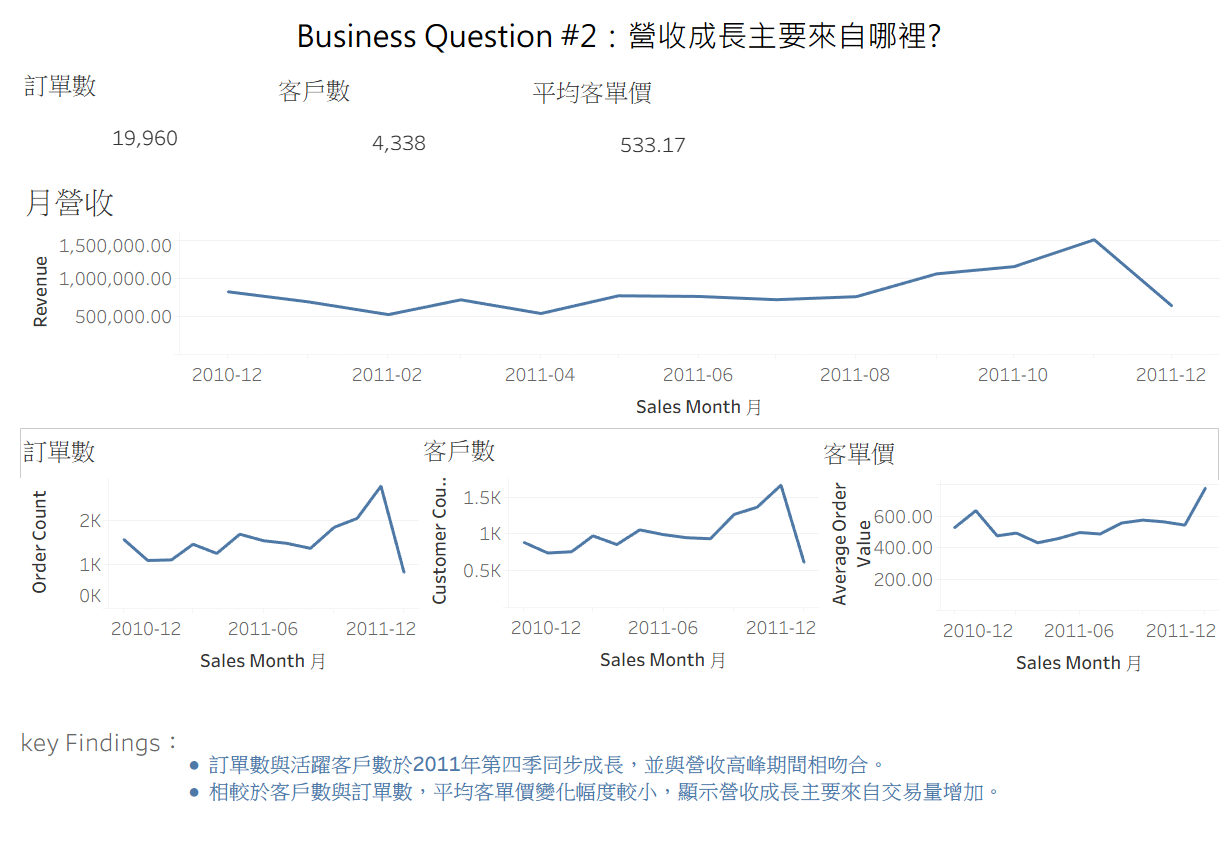

Layout of this report page (visuals, bound fields, positions):
{"tool":"tableau","page":{"name":"營收成長分析儀表板","canvas":[1200,850],"ordinal":1},"visuals":[{"type":"text","box":[0,6,1200,50]},{"type":"worksheet","title":"Total Orders","mark":"Automatic","box":[1,54,250,100]},{"type":"worksheet","title":"Total Customers","mark":"Automatic","box":[255,59,250,100]},{"type":"worksheet","title":"Average Order Value","mark":"Automatic","box":[509,61,250,100]},{"type":"worksheet","title":"Monthly Revenue","mark":"Automatic","rows":["Calculation_0257887555051522"],"cols":["Calculation_0257887572770822"],"box":[1,166,1200,250]},{"type":"worksheet","title":"Monthly Active Customers","mark":"Automatic","rows":["Calculation_0257887555686404"],"cols":["Calculation_0257887572770822"],"box":[400,419,400,250]},{"type":"worksheet","title":"Monthly Order","mark":"Automatic","rows":["Calculation_0257887555424259"],"cols":["Calculation_0257887572770822"],"box":[0,420,400,250]},{"type":"worksheet","title":"Monthly AOV","mark":"Automatic","rows":["Calculation_0257887556005893"],"cols":["Calculation_0257887572770822"],"box":[800,422,400,250]},{"type":"text","box":[165,719,1034,98]}]}

Visuals, with their boxes on the page's 1200x850 design canvas (x1, y1, x2, y2). These are canvas units, not pixel positions in the 1229x841 screenshot, which may show the page scaled, cropped or inside an application window:
text: {"left": 0, "top": 6, "right": 1200, "bottom": 56}
"Total Orders" worksheet: {"left": 1, "top": 54, "right": 251, "bottom": 154}
"Total Customers" worksheet: {"left": 255, "top": 59, "right": 505, "bottom": 159}
"Average Order Value" worksheet: {"left": 509, "top": 61, "right": 759, "bottom": 161}
"Monthly Revenue" worksheet: {"left": 1, "top": 166, "right": 1201, "bottom": 416}
"Monthly Active Customers" worksheet: {"left": 400, "top": 419, "right": 800, "bottom": 669}
"Monthly Order" worksheet: {"left": 0, "top": 420, "right": 400, "bottom": 670}
"Monthly AOV" worksheet: {"left": 800, "top": 422, "right": 1200, "bottom": 672}
text: {"left": 165, "top": 719, "right": 1199, "bottom": 817}
